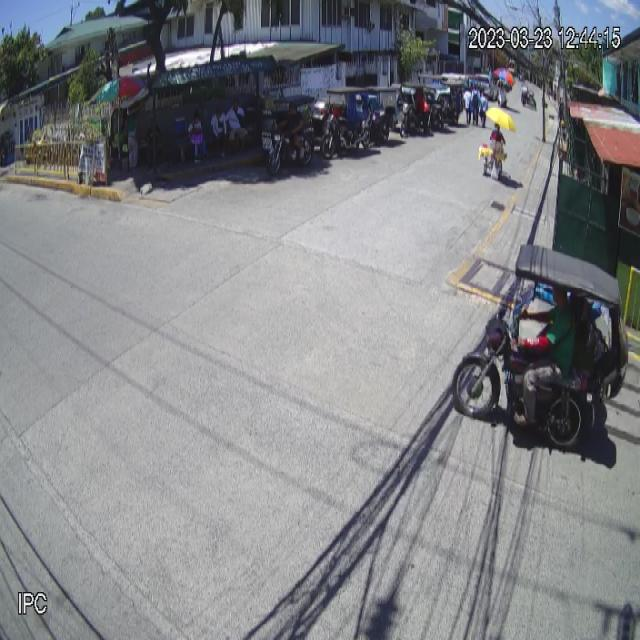Tricycle: (450, 243, 630, 447)
